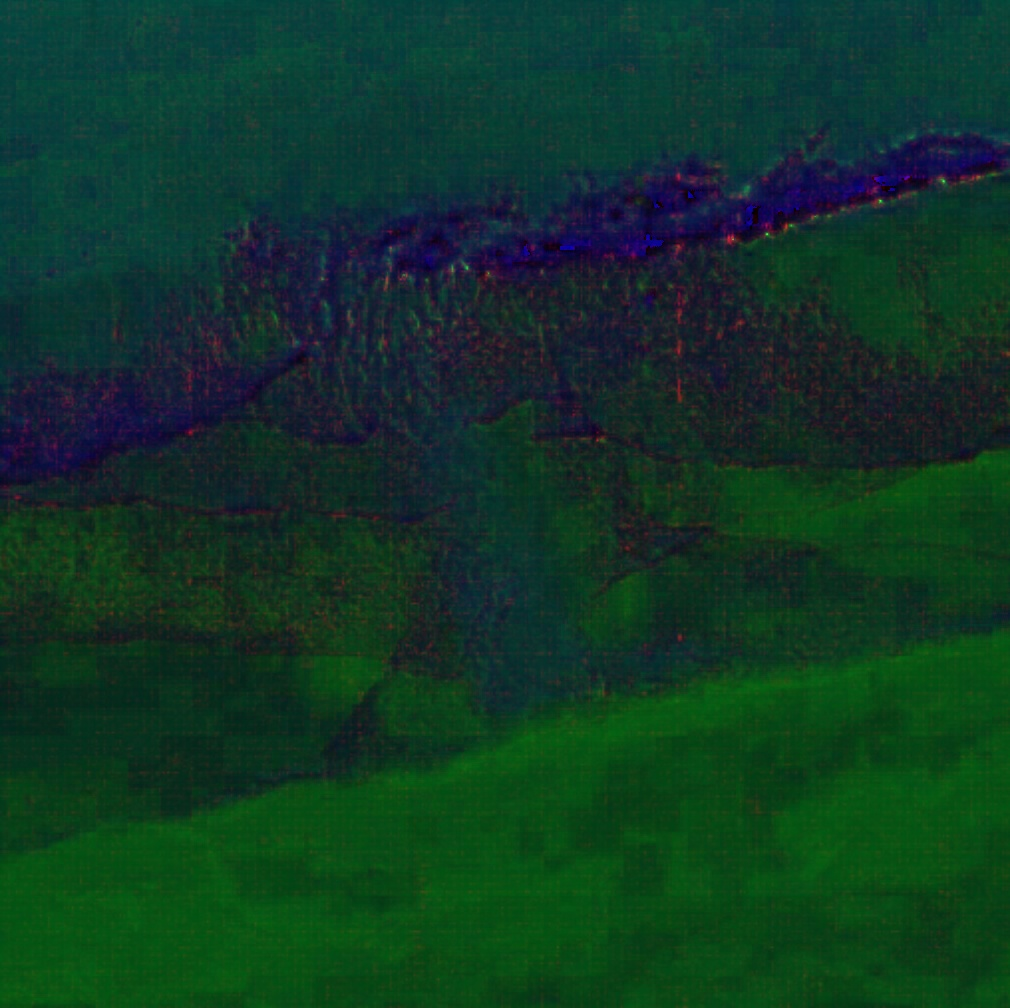rip_current: (206, 212, 638, 684)
